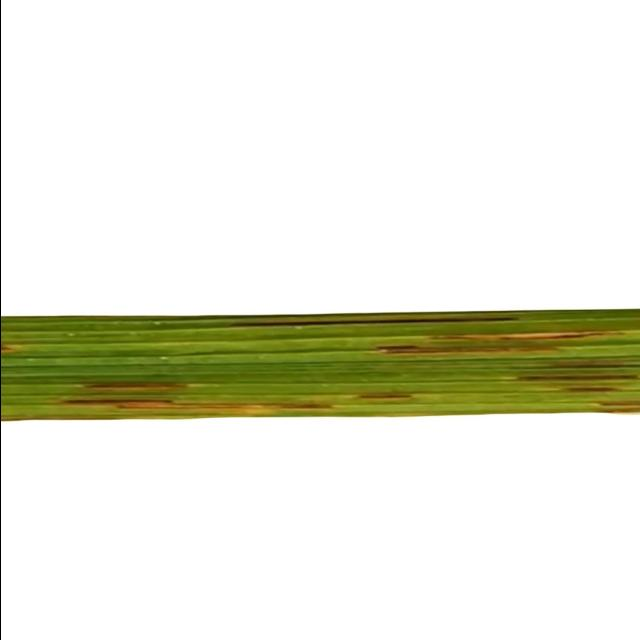Narrow brown: (0, 257, 640, 468)
